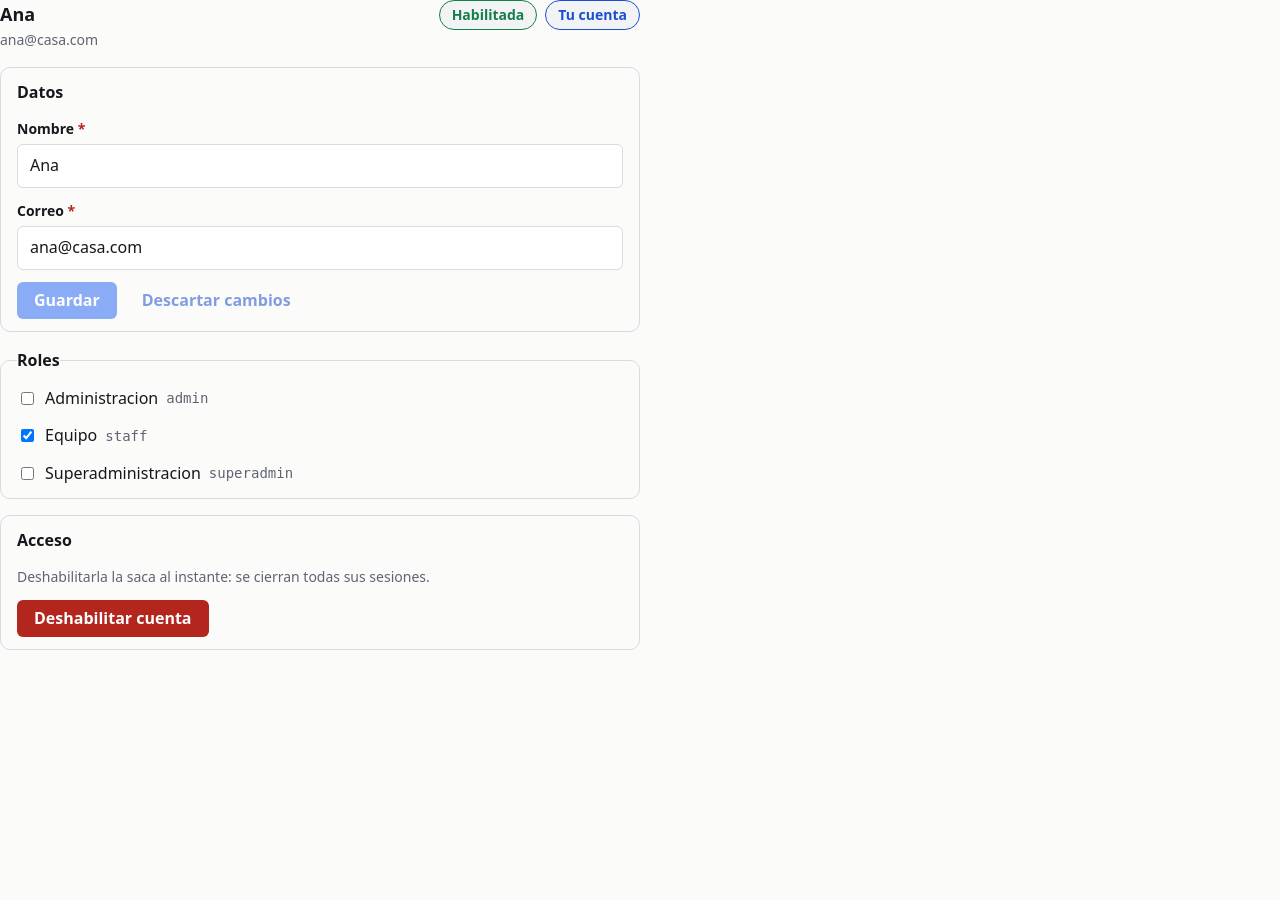
Test case: FichaDeCuenta › en la cuenta propia la confirmacion avisa que te saca
Click the button "Deshabilitar cuenta".
click(113, 619)  # box [17, 600, 208, 638]
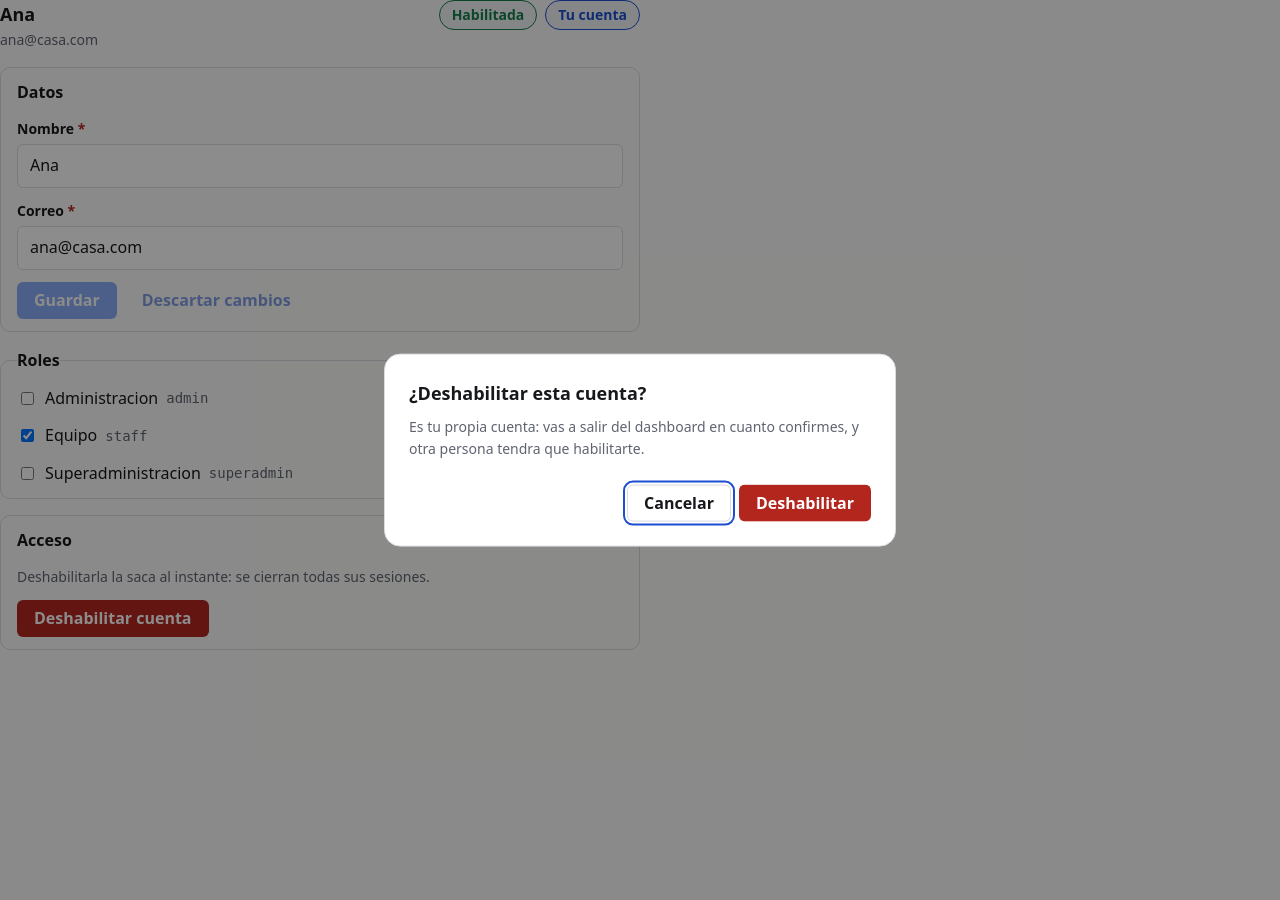
expect the text "Es tu propia cuenta" is shown: met, box [409, 416, 859, 458]
